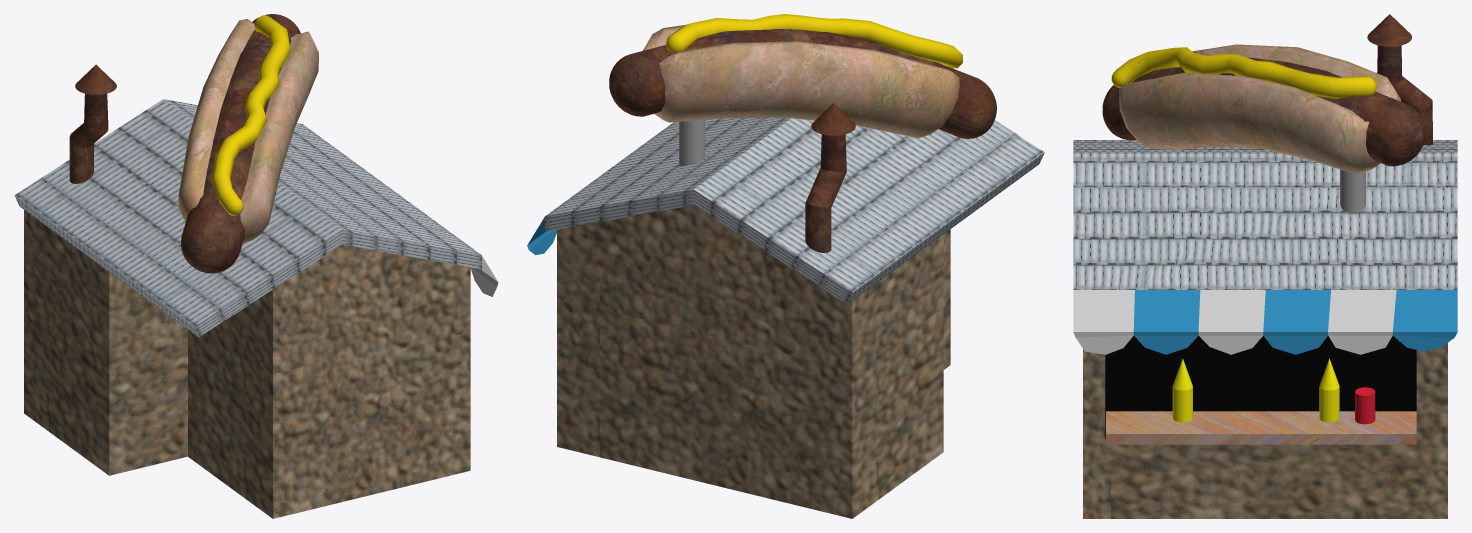
Rendered from hotdogstand.fbx.
The picture shows the model from 3 angles, left to right: view 1: azimuth 30°, elevation 25°; view 2: azimuth 150°, elevation 25°; view 3: azimuth 270°, elevation 25°; orthographic projection. The views are drawn at different scales.
Parts seen in each view (by area): view 1: Walls, Roof, Bun, Sausage, MustardOnHotdog, Chimney; view 2: Walls, Roof, Bun, Sausage, MustardOnHotdog, Chimney, HotdogPole; view 3: Roof, Walls, Bun, Counter, Sausage, MustardOnHotdog, Chimney, Mustard1, Mustard2, HotdogPole, Ketchup.
Boxes of the visible parts, <box> form: Walls: <box>24,210,470,518</box>; Roof: <box>14,99,498,337</box>; Bun: <box>178,19,318,243</box>; Sausage: <box>181,14,300,273</box>; MustardOnHotdog: <box>212,15,290,215</box>; Chimney: <box>69,64,116,183</box>; Walls: <box>557,205,950,518</box>; Roof: <box>527,117,1044,304</box>; Bun: <box>643,25,959,138</box>; Sausage: <box>609,29,996,138</box>; MustardOnHotdog: <box>666,14,962,68</box>; Chimney: <box>805,103,855,252</box>; HotdogPole: <box>679,119,704,166</box>; Roof: <box>1073,140,1457,354</box>; Walls: <box>1083,335,1447,518</box>; Bun: <box>1119,44,1401,173</box>; Counter: <box>1106,411,1416,444</box>; Sausage: <box>1102,57,1425,166</box>; MustardOnHotdog: <box>1111,47,1376,98</box>; Chimney: <box>1367,14,1432,145</box>; Mustard1: <box>1172,358,1192,422</box>; Mustard2: <box>1319,358,1339,422</box>; HotdogPole: <box>1340,169,1365,213</box>; Ketchup: <box>1355,387,1375,424</box>.
Size of the model in its own units: 393 by 463 by 400.
